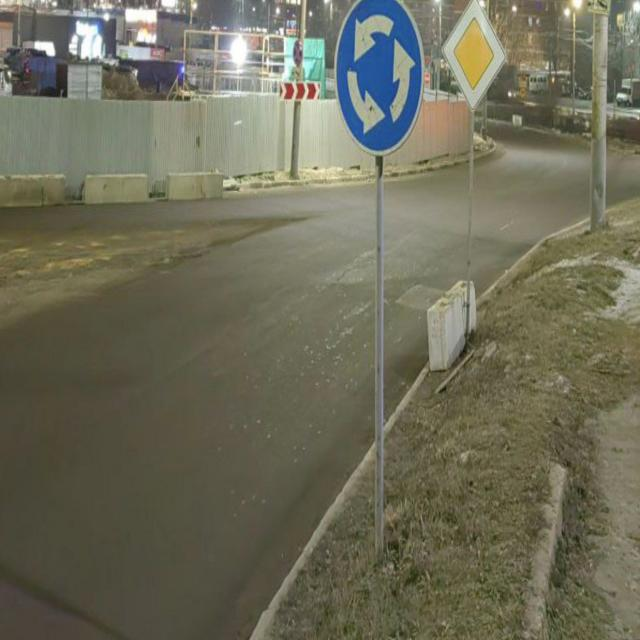roundabout: (334, 0, 425, 156)
